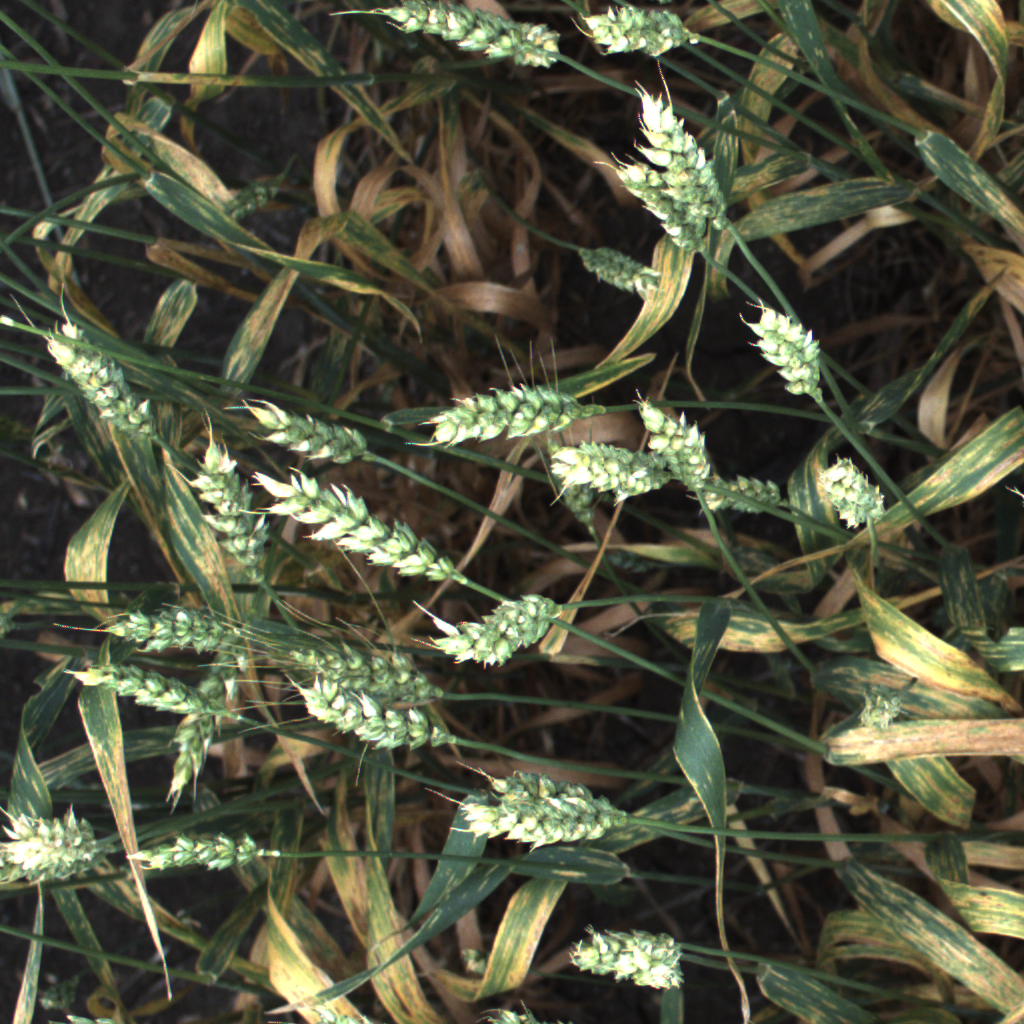wheat_head: (248, 463, 474, 592), (31, 301, 171, 460), (154, 626, 261, 810), (50, 649, 245, 740), (635, 70, 739, 239), (184, 418, 282, 597), (285, 666, 467, 760), (277, 633, 454, 724), (367, 0, 578, 76), (421, 371, 612, 452), (452, 776, 636, 854), (522, 421, 675, 514), (595, 146, 718, 259), (80, 595, 261, 671), (734, 289, 844, 409), (467, 755, 638, 831), (549, 916, 702, 999), (424, 582, 553, 677), (620, 382, 718, 494), (237, 393, 380, 469), (122, 819, 278, 883), (573, 226, 671, 311), (579, 0, 712, 62), (651, 402, 727, 502), (807, 449, 899, 531), (689, 461, 793, 529), (0, 796, 107, 860), (0, 831, 117, 887), (286, 991, 395, 1024), (454, 1000, 583, 1024), (855, 687, 908, 740)
